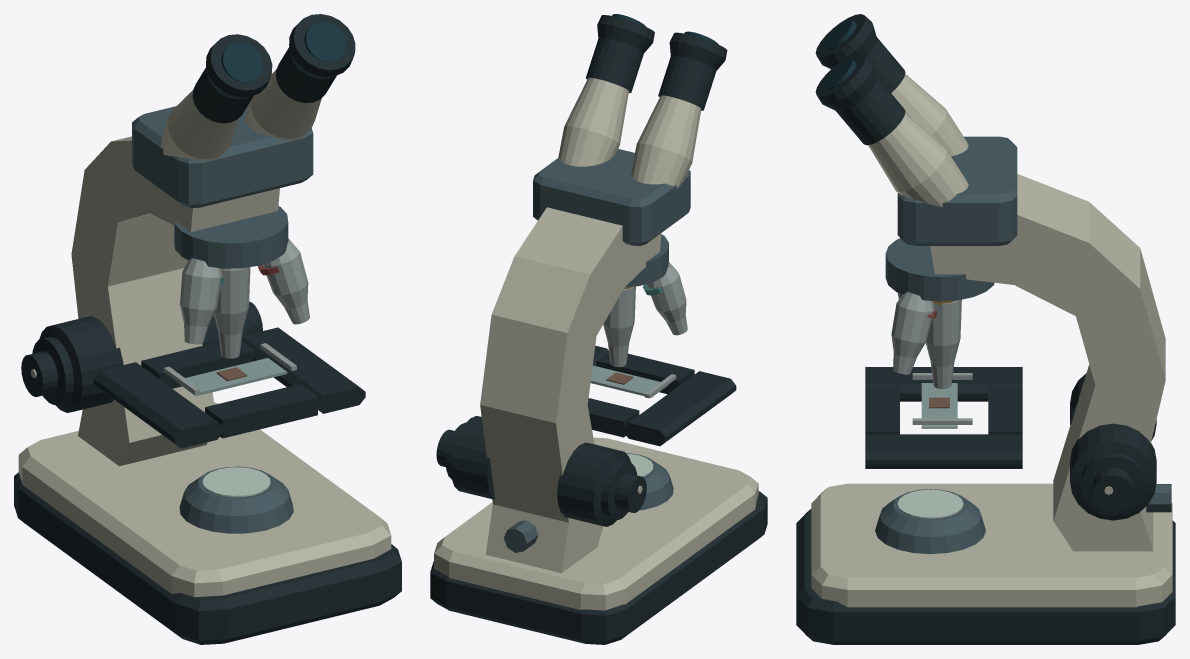
File: B-05a_microscope.glb
3 renders of one model, left to right at view 1: azimuth 30°, elevation 25°; view 2: azimuth 150°, elevation 25°; view 3: azimuth 270°, elevation 25°, orthographic. The views are drawn at different scales.
Parts seen in each view (by area): view 1: B-05a_microscope; view 2: B-05a_microscope; view 3: B-05a_microscope.
Part boxes in pixels (x1=…): B-05a_microscope: x1=14, y1=14, x2=401, y2=644; B-05a_microscope: x1=430, y1=14, x2=767, y2=644; B-05a_microscope: x1=796, y1=14, x2=1175, y2=644.
Size of the model in its own units: 0.166 by 0.4107 by 0.253.
